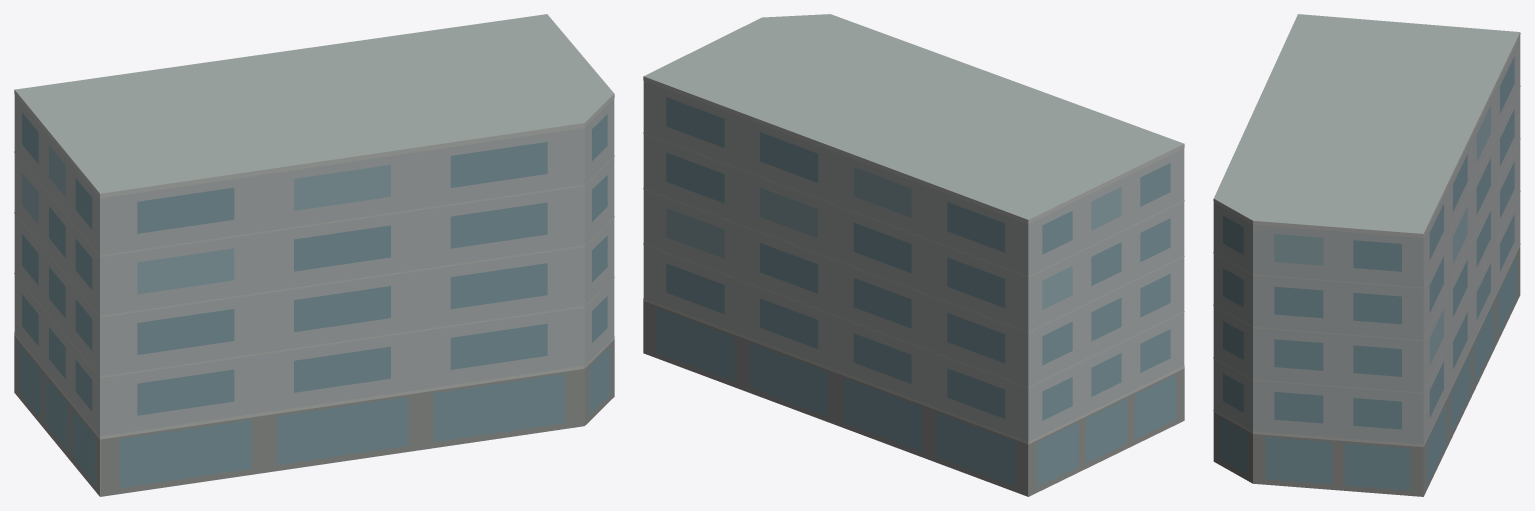
Rendered from survey-upis-32985754.glb.
The picture shows the model from 3 angles, left to right: view 1: azimuth 30°, elevation 25°; view 2: azimuth 150°, elevation 25°; view 3: azimuth 270°, elevation 25°; orthographic projection. The views are drawn at different scales.
Parts seen in each view (by area): view 1: survey-upis-32985754.tmp; view 2: survey-upis-32985754.tmp; view 3: survey-upis-32985754.tmp.
Boxes of the visible parts, <box> form: survey-upis-32985754.tmp: <box>14,14,614,496</box>; survey-upis-32985754.tmp: <box>643,14,1184,496</box>; survey-upis-32985754.tmp: <box>1213,14,1520,496</box>.
Bounding box in the file's own units: 27.47 × 15.3 × 16.2.
